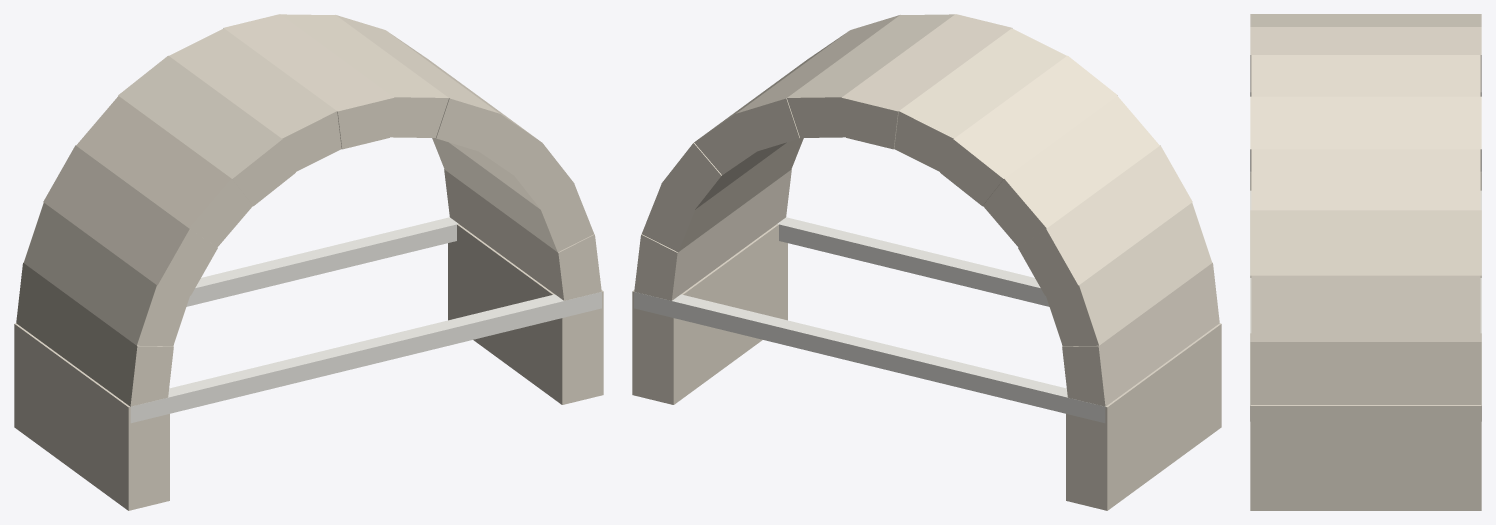
File: roman-bathhouse-and-palaestra-barrel-vault-section-0bba26f8__37866.glb
3 views of the same model, side by side, from view 1: azimuth 30°, elevation 25°; view 2: azimuth 150°, elevation 25°; view 3: azimuth 270°, elevation 25° (orthographic).
Visible parts, largest first — view 1: barrel-vault-section; view 2: barrel-vault-section; view 3: barrel-vault-section.
Part boxes in pixels (box(x1,y1,x2,y2)): barrel-vault-section: box(14, 14, 603, 510); barrel-vault-section: box(632, 14, 1221, 510); barrel-vault-section: box(1250, 14, 1481, 510).
Size of the model in its own units: 4.8 by 3.36 by 2.
